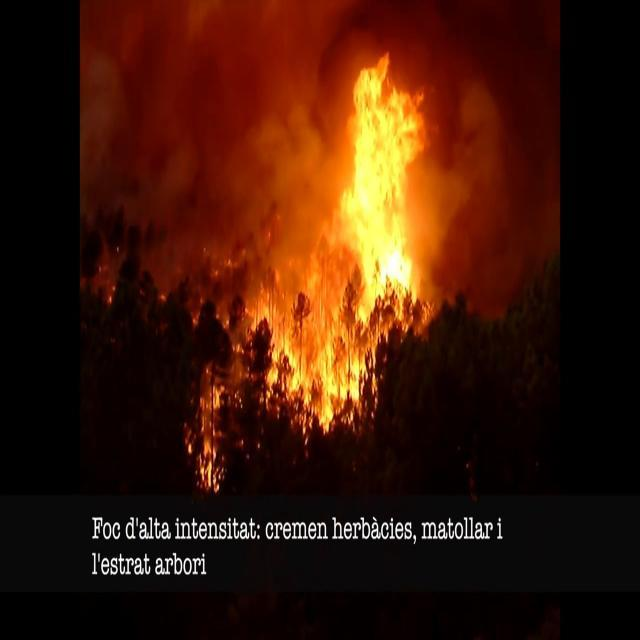Fire: (242, 34, 448, 420), (184, 361, 226, 498)
Smoke: (80, 0, 316, 282), (420, 3, 560, 326)
